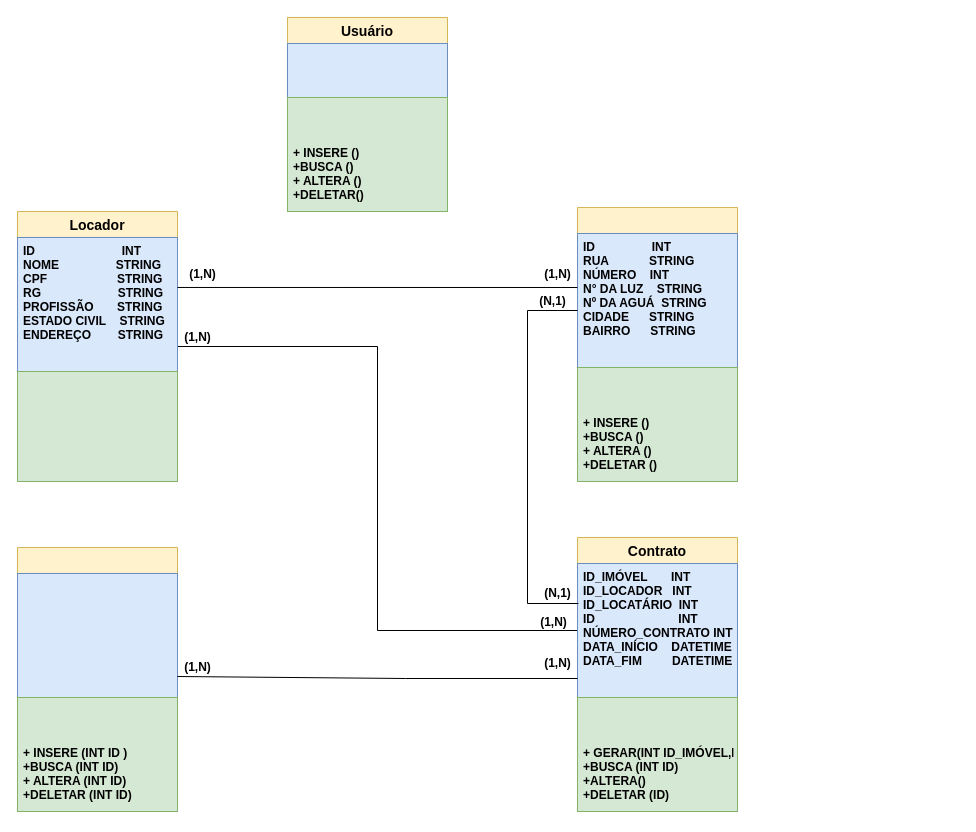
Image size: 976x832. Some labels were removed from this diagram. Each missing label, with the box of its shape:
+ INSERE (INT ID) +BUSCA (INT ID) + ALTERA (INT ID) +DELETAR (INT ID): (16, 370, 178, 482)
ID INT NOME STRING CPF STRING RG STRING PROFISSÃO STRING ESTADO CIVIL STRING: (16, 572, 178, 698)
ID INT USUÁRIO STRING SENHA STRING: (286, 42, 448, 98)
Imóvel: (576, 206, 738, 482)
Locatário: (16, 546, 178, 812)
